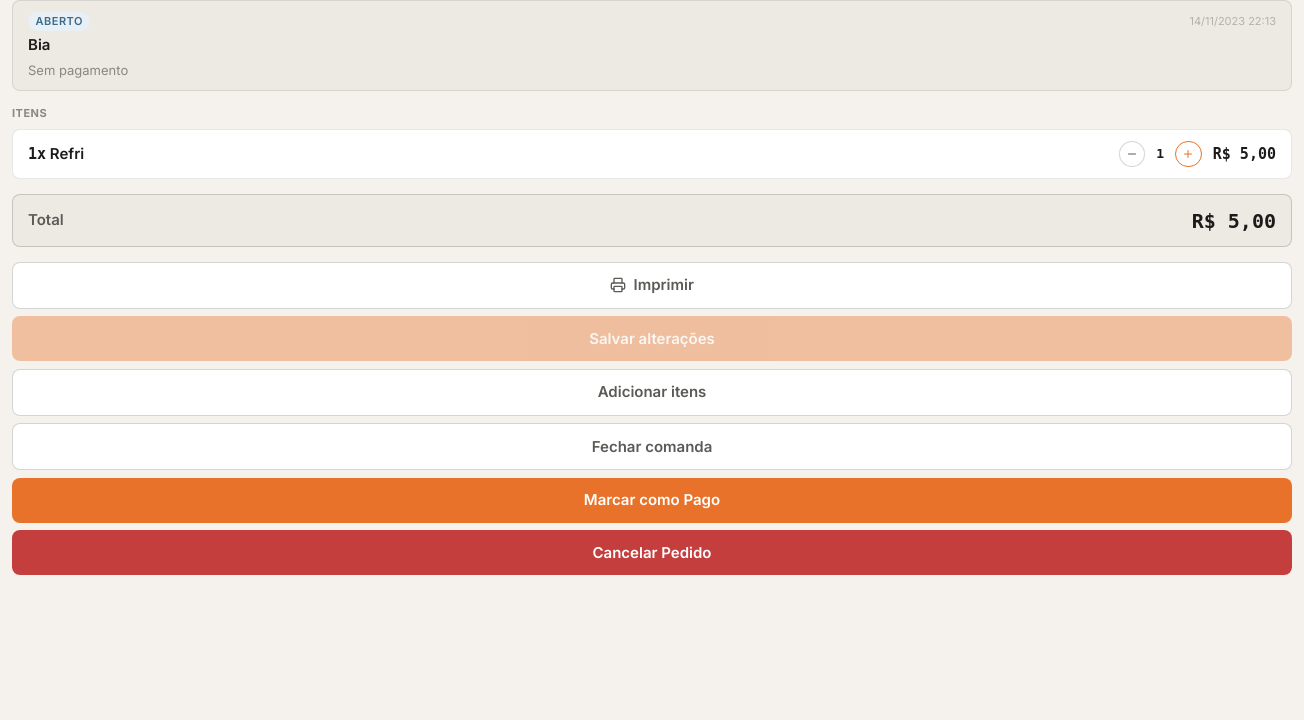
Scenario: OrderDetail › aumenta a quantidade e habilita o salvar
Click the button named "Aumentar" at x=1188, y=154, box [1175,141,1202,167]
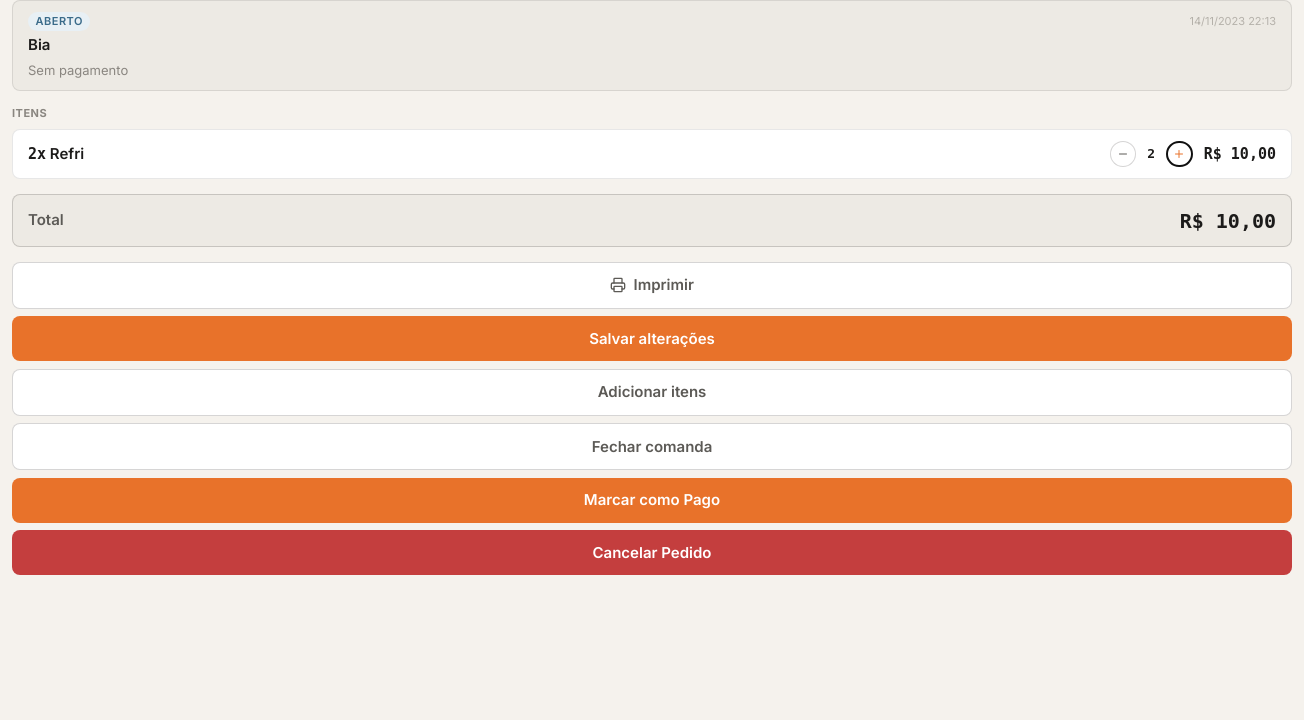
Check: the button "Salvar alterações" is enabled, box [12,316,1292,361]
